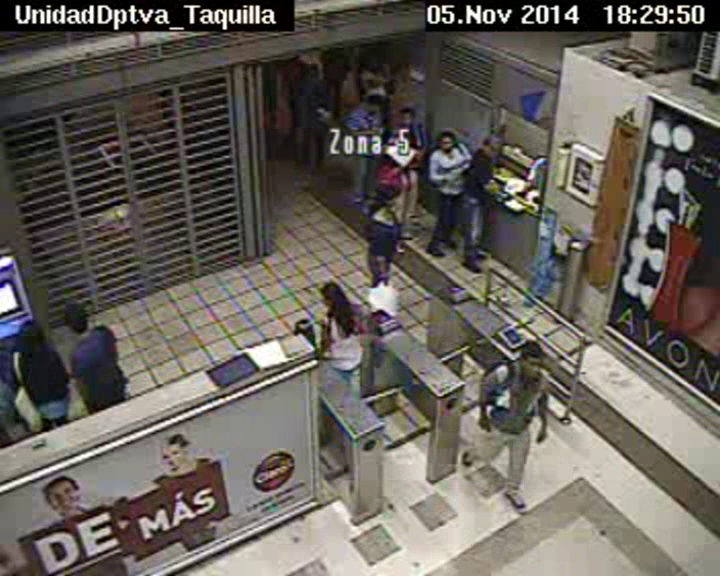person: (516, 338, 549, 375), (17, 320, 48, 350), (61, 303, 91, 334), (318, 279, 344, 307), (480, 134, 505, 161), (434, 129, 458, 154), (386, 146, 409, 170), (365, 91, 385, 113), (398, 105, 417, 125), (365, 49, 385, 68), (306, 63, 322, 80), (345, 67, 361, 84), (329, 37, 344, 53)
